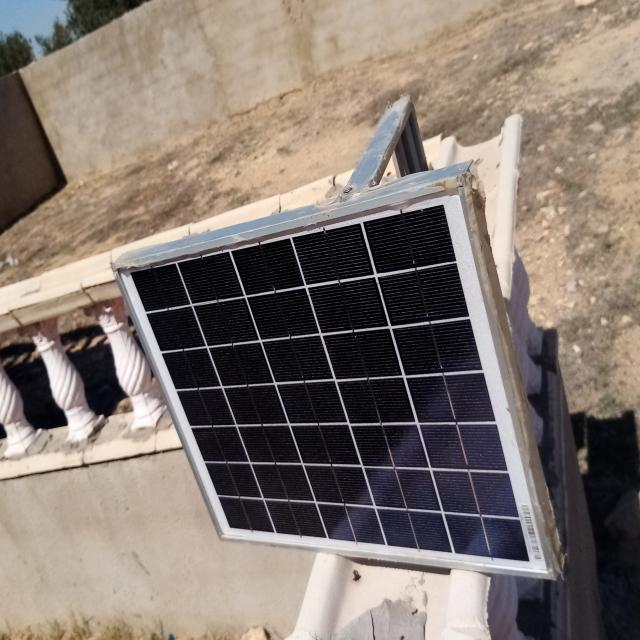no faulty: (118, 185, 554, 578)
